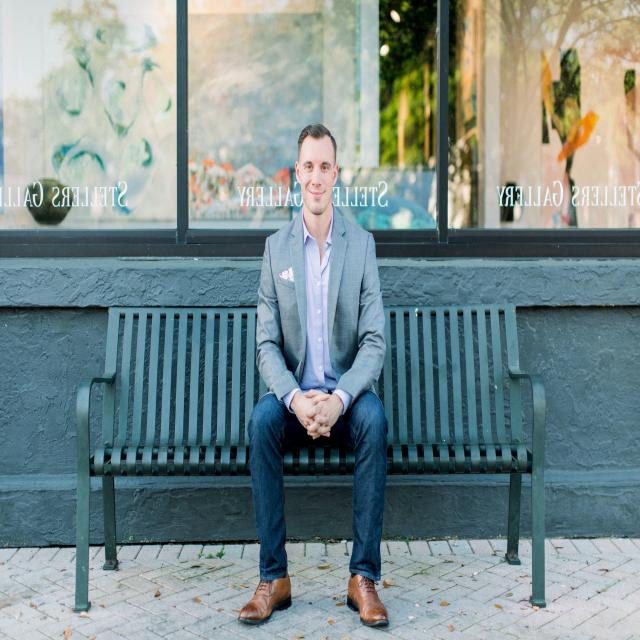adult: (241, 119, 389, 634)
